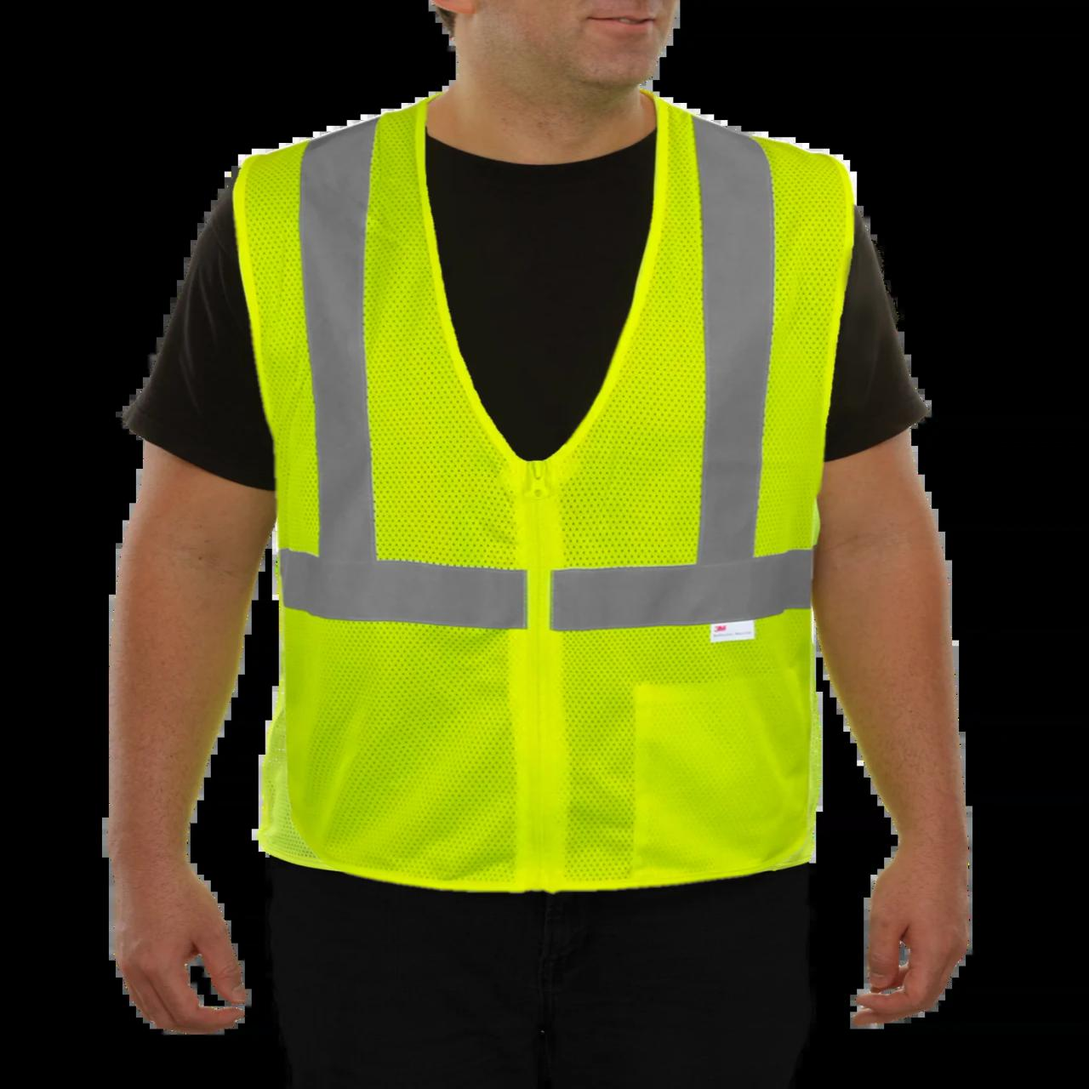Person: (64, 0, 1033, 1089)
Safety_Vest: (179, 90, 882, 905)
